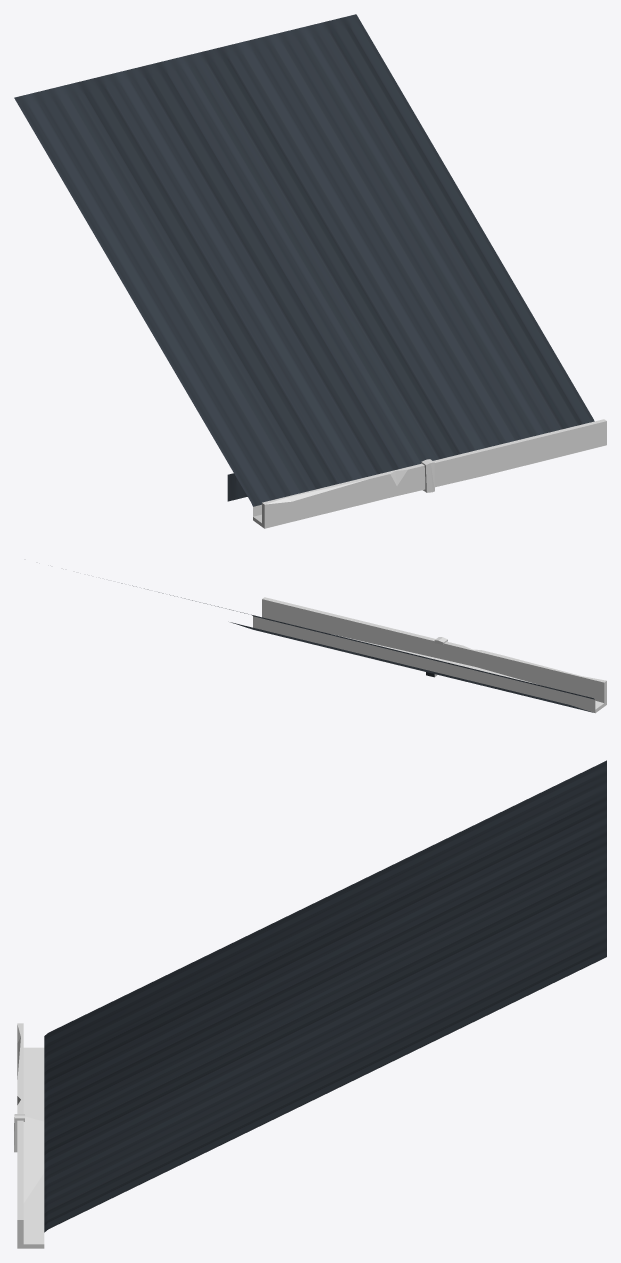
File: Roof_type_1.fbx
The picture shows the model from 3 angles, top to bottom: view 1: azimuth 30°, elevation 25°; view 2: azimuth 150°, elevation 25°; view 3: azimuth 270°, elevation 25°; orthographic projection. The views are drawn at different scales.
Visible parts, largest first — view 1: Object; view 2: Object; view 3: Object.
Part boxes in pixels (box(x1,y1,x2,y2)): Object: box(14, 14, 606, 528); Object: box(121, 583, 606, 713); Object: box(14, 760, 606, 1248).
Bounding box in the file's own units: 250 × 175 × 319.
